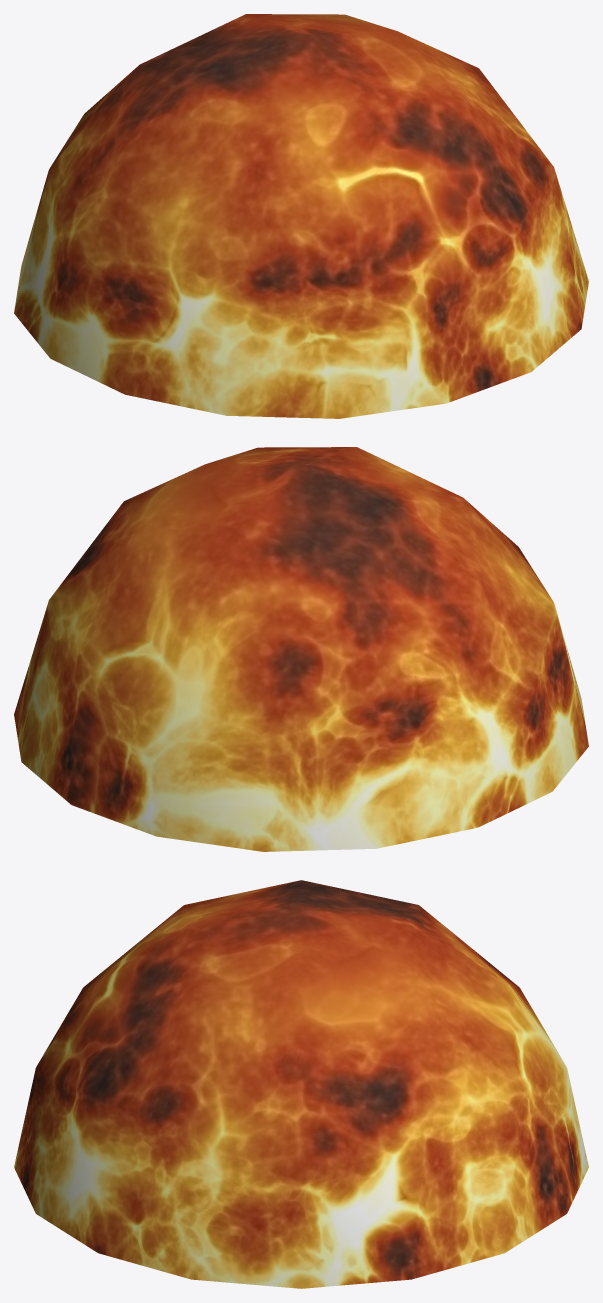
Rendered from hemisphere.FBX.
The picture shows the model from 3 angles, top to bottom: view 1: azimuth 30°, elevation 25°; view 2: azimuth 150°, elevation 25°; view 3: azimuth 270°, elevation 25°; orthographic projection.
Visible parts, largest first — view 1: GeoSphere001; view 2: GeoSphere001; view 3: GeoSphere001.
Part boxes in pixels (x1,y1,x2,y2): GeoSphere001: (14,14,588,418); GeoSphere001: (14,447,588,851); GeoSphere001: (14,880,588,1288).
Size of the model in its own units: 200 by 100 by 200.
